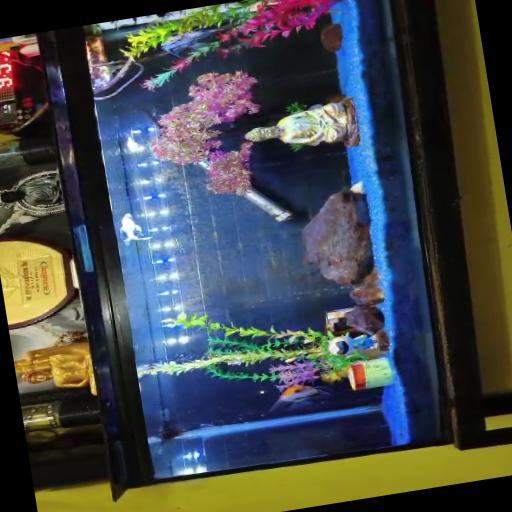Fish: (160, 28, 218, 56), (271, 384, 331, 410), (120, 213, 151, 243)
